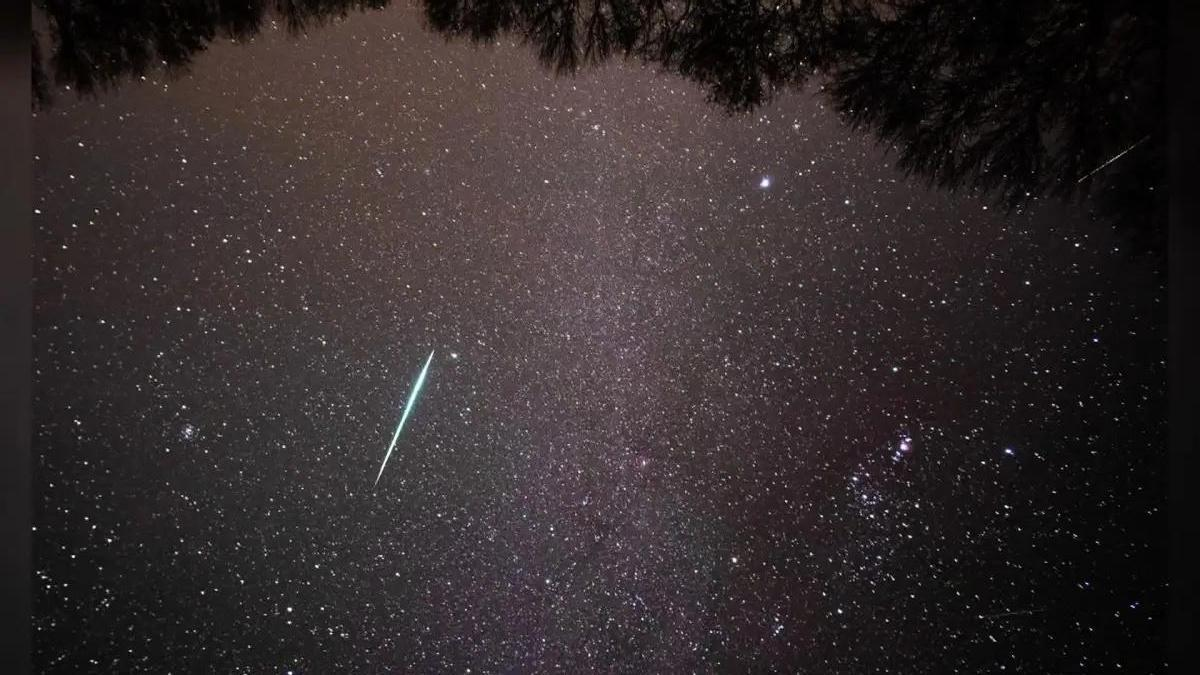meteorite: (339, 334, 475, 493), (1062, 140, 1148, 198)
